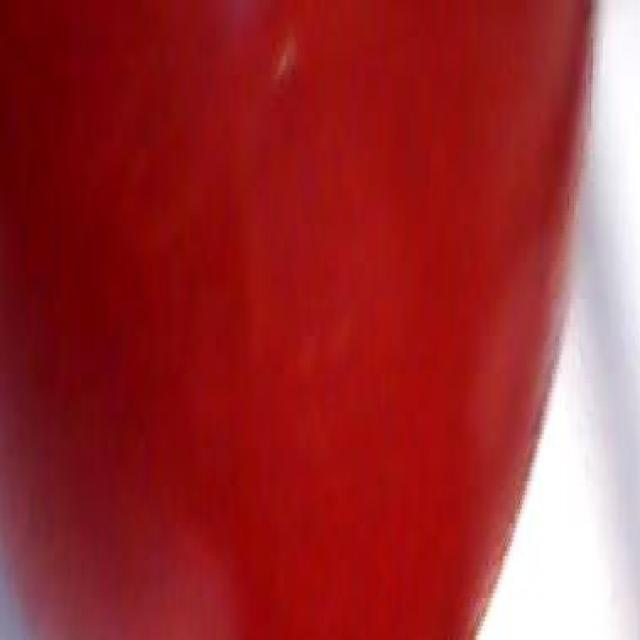Healthy: (0, 9, 602, 640)
